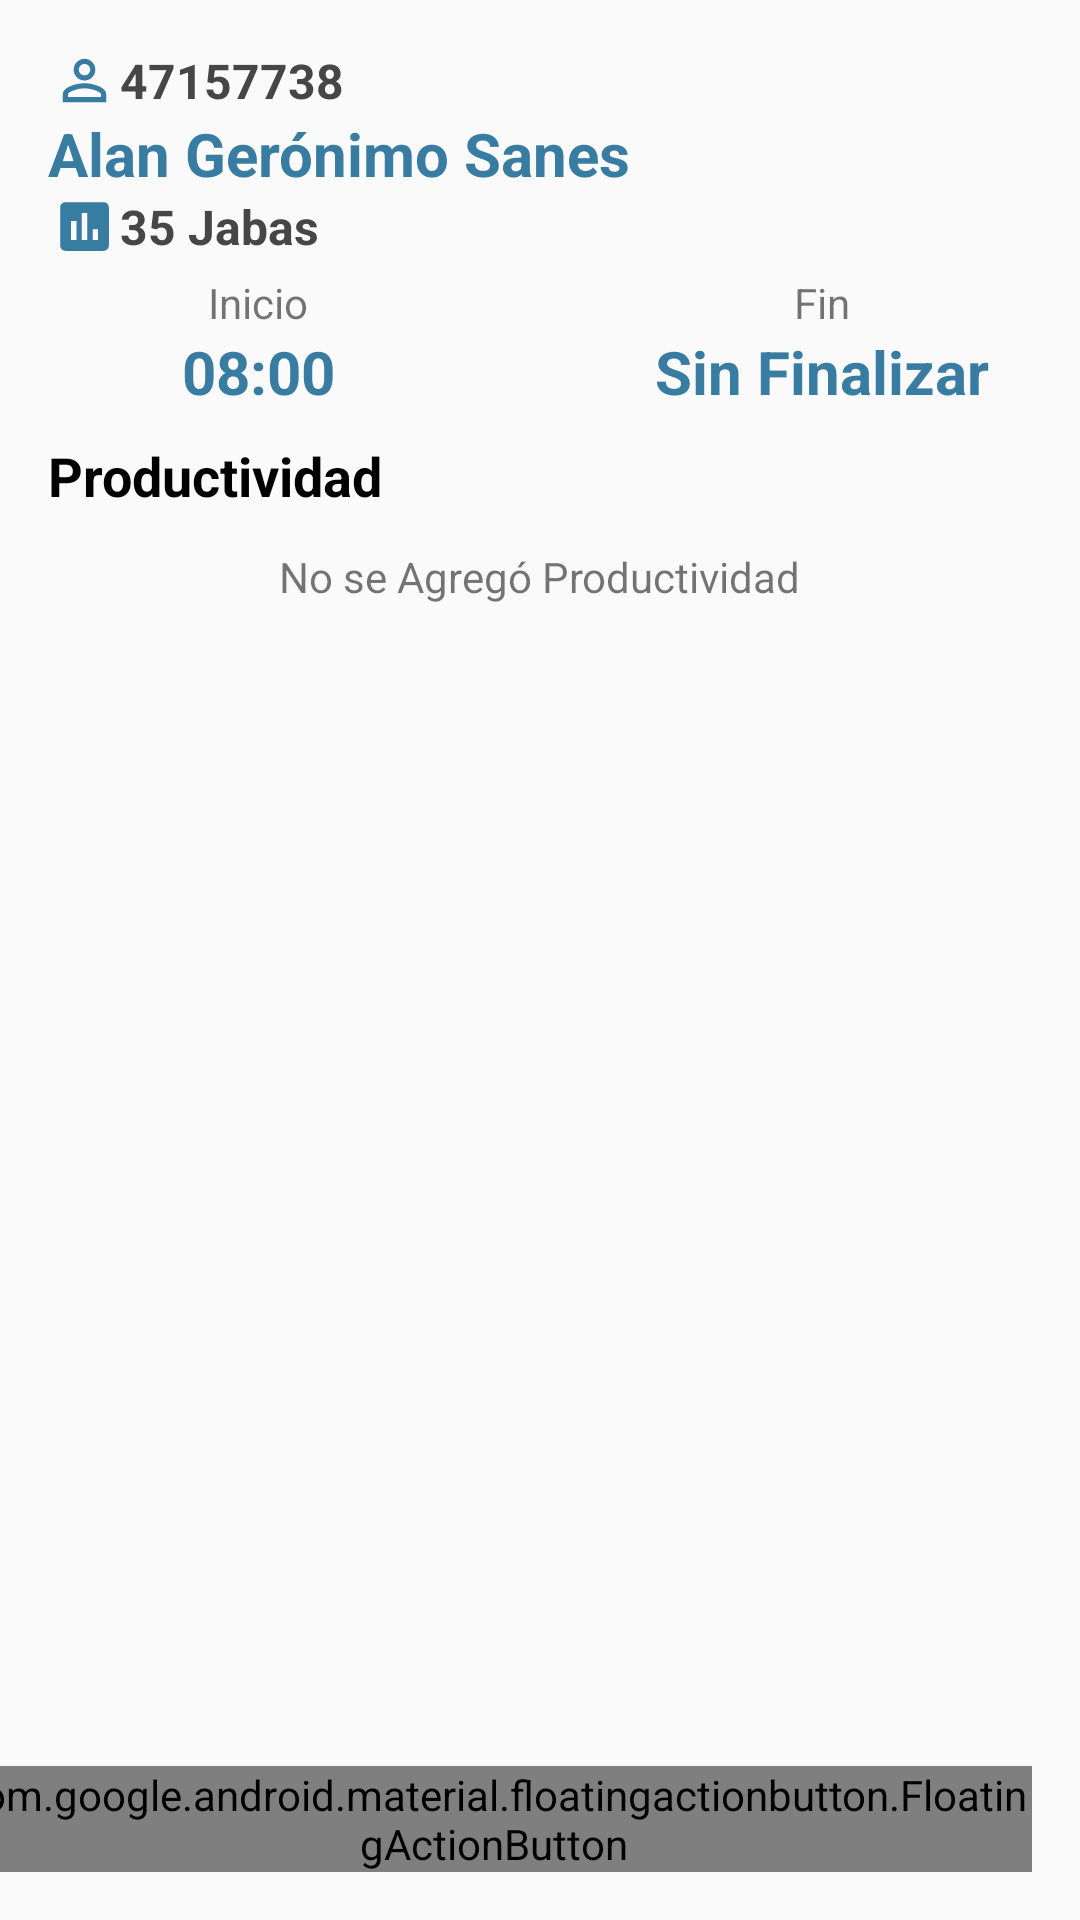

Locate icon controls on the screen. Image size 1080px x 1920px, boxes as (x1, y1, x2, y2).
insert chart: (60, 202, 109, 251)
person: (62, 58, 107, 103)
